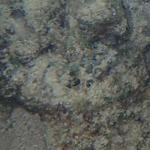dead: (4, 3, 147, 148)
